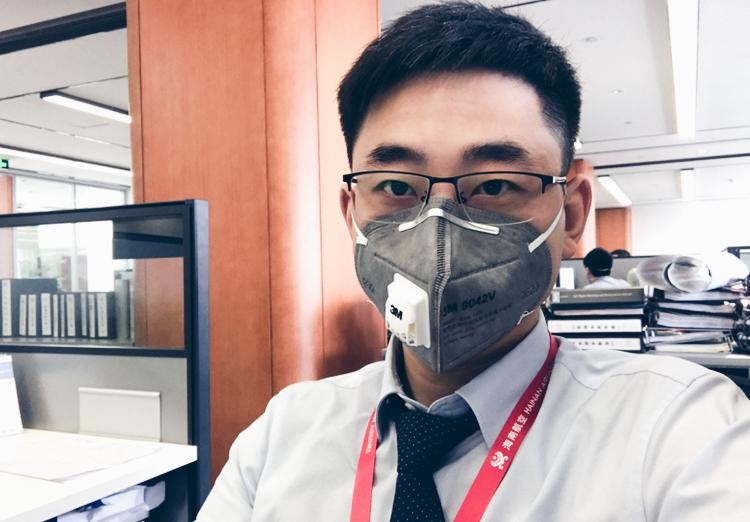Mask: (337, 134, 565, 362)
